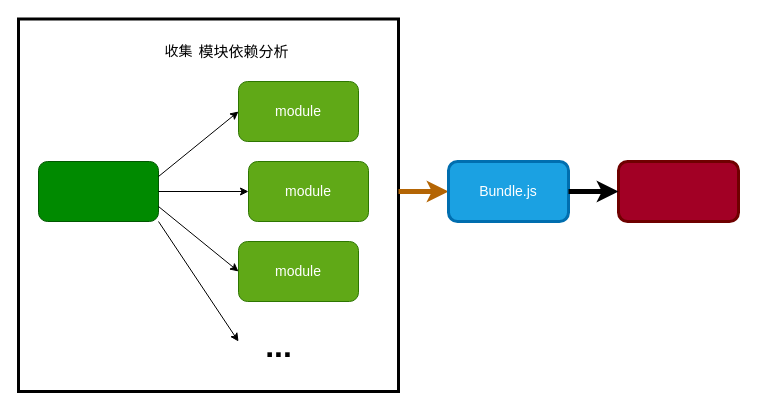
The diagram is 757 pixels wide and 410 high, and some of its shapes have lost their labels. Here are the shapes that lost their labels. From the top down, the centre of each, then its label:
point (98, 191): entry (main.js)
point (678, 191): Server Ready
